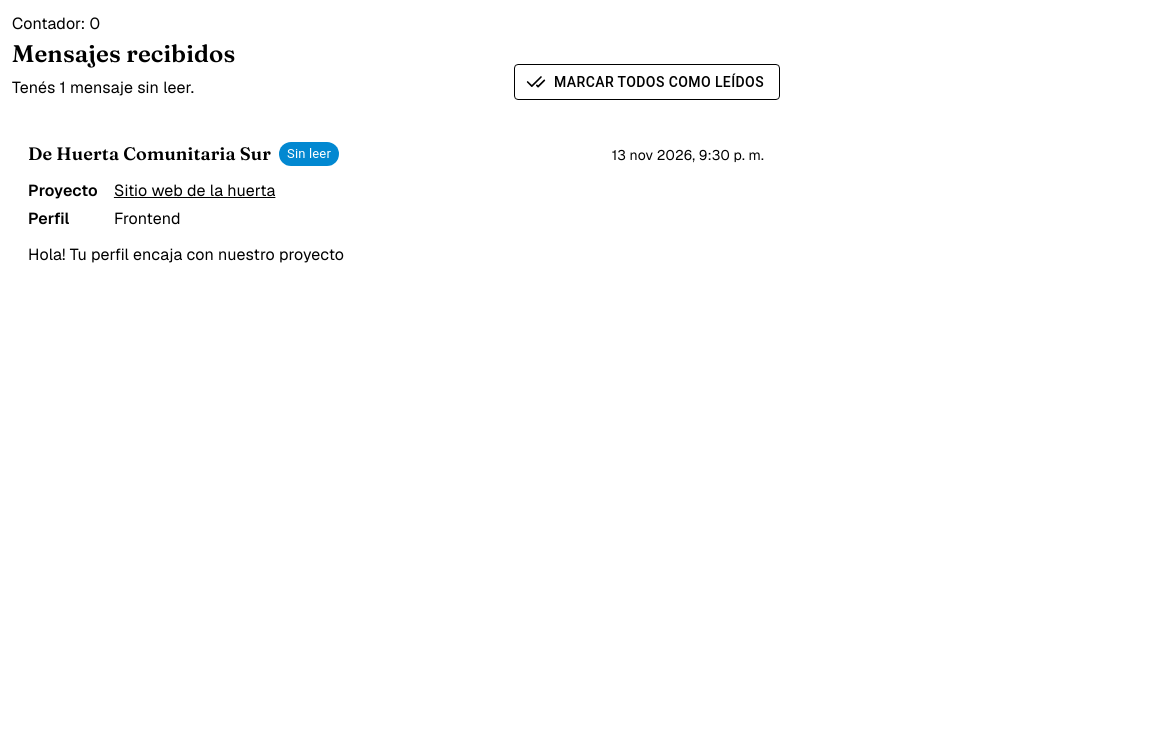
Test case: PaginaMensajes › si el back marcó 1, el aviso lo dice bien
Click the button "Marcar todos como leídos": (647, 82) x1=514 y1=64 x2=780 y2=100
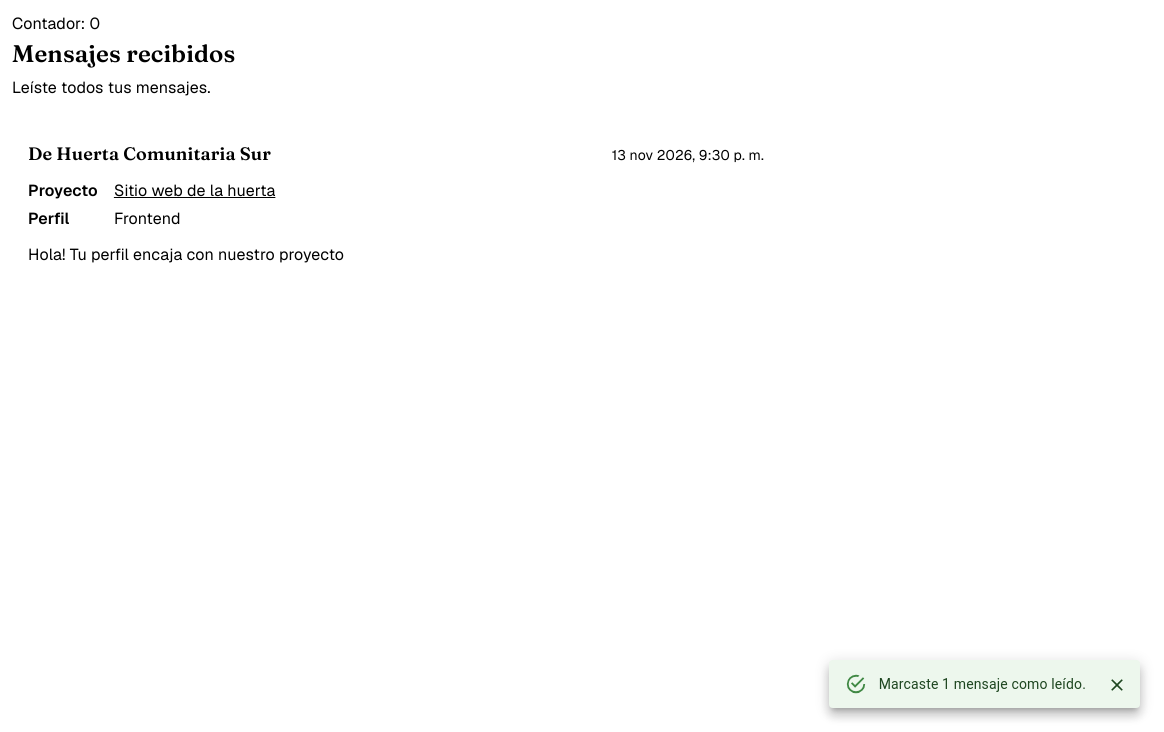
Result: the text "Marcaste 1 mensaje como leído." is shown at x1=879 y1=676 x2=1086 y2=692
